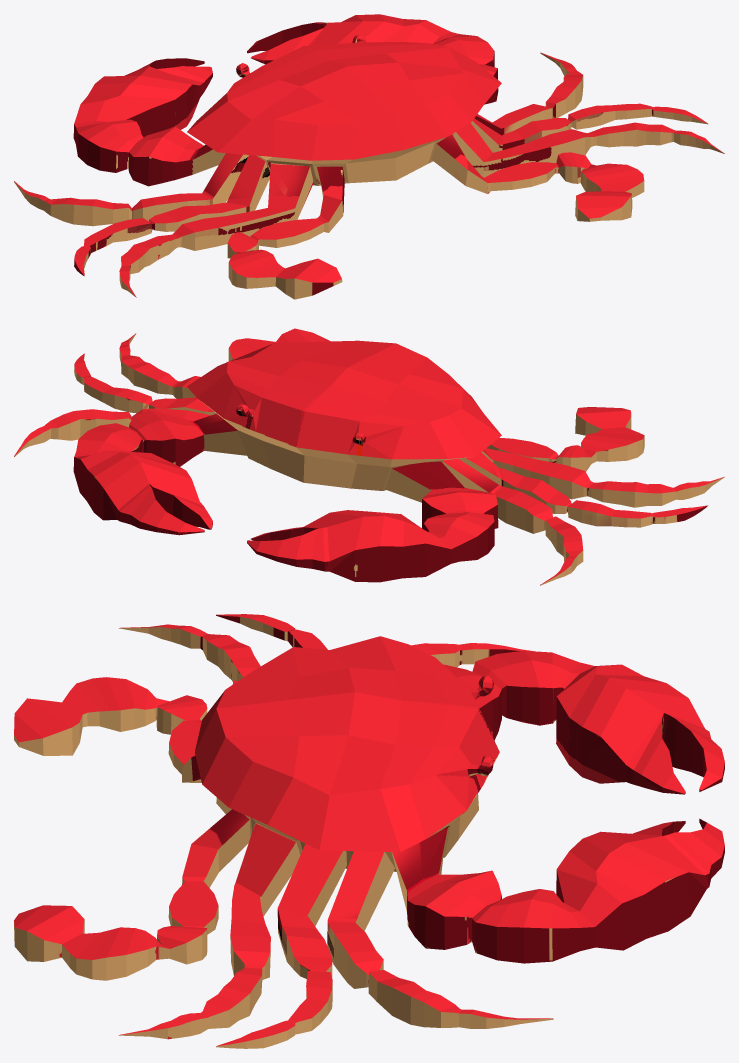
File: crabModel.gltf
3 views of the same model, one above another, from view 1: azimuth 30°, elevation 25°; view 2: azimuth 150°, elevation 25°; view 3: azimuth 270°, elevation 25° (orthographic). The views are drawn at different scales.
Parts seen in each view (by area): view 1: Cube; view 2: Cube; view 3: Cube.
Part boxes in pixels (x1,y1,x2,y2): Cube: [14, 14, 724, 299]; Cube: [14, 328, 724, 585]; Cube: [14, 614, 724, 1048].
Size of the model in its own units: 3.14 by 0.5461 by 2.19.
Materials: 1 (1 with a texture image).
